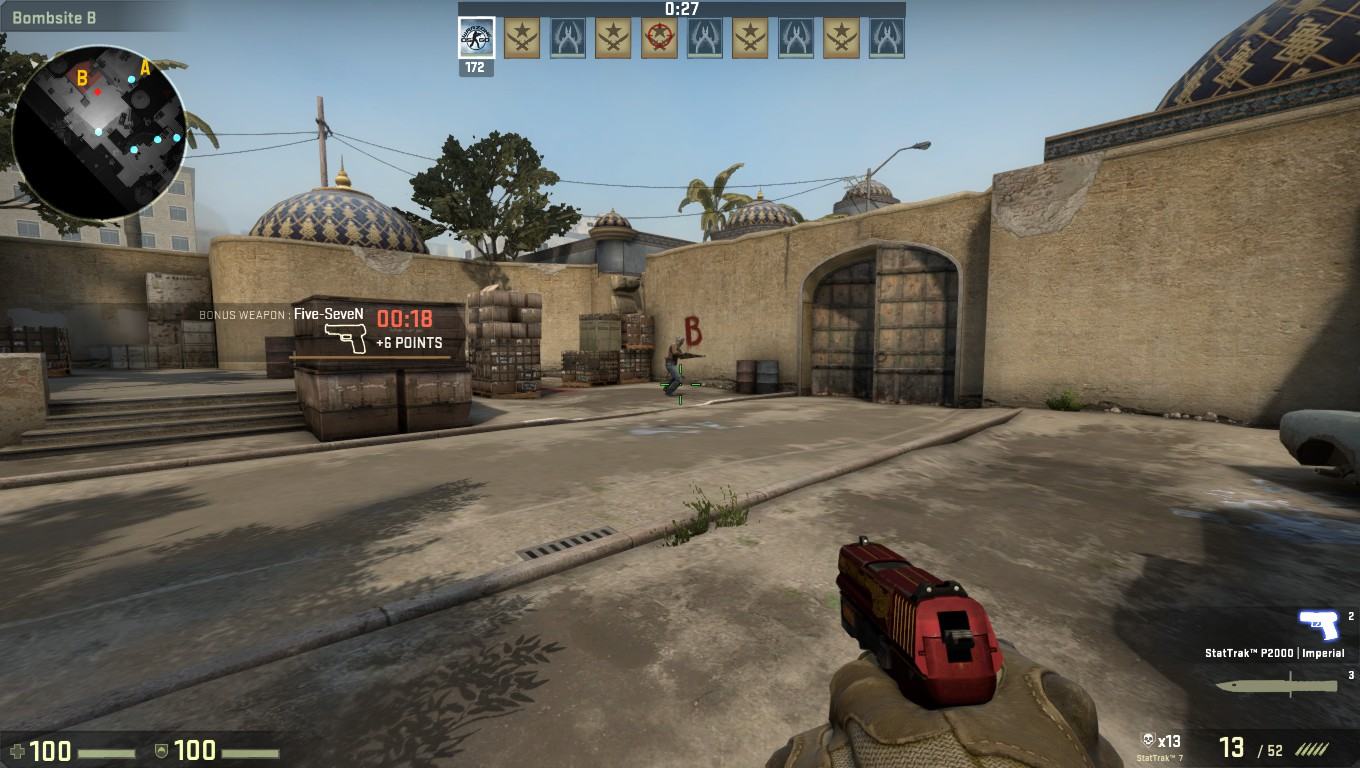t: (660, 330, 688, 397)
th: (671, 334, 687, 347)
